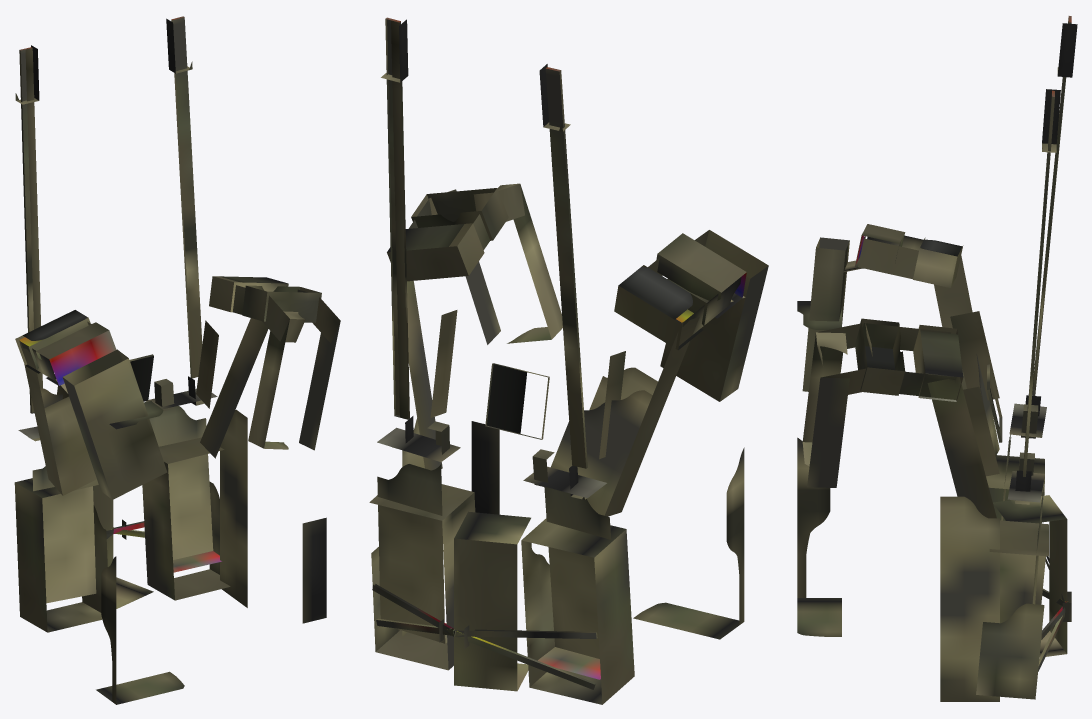
File: atleti.obj
The picture shows the model from 3 angles, left to right: view 1: azimuth 30°, elevation 25°; view 2: azimuth 150°, elevation 25°; view 3: azimuth 270°, elevation 25°; orthographic projection. The views are drawn at different scales.
Parts seen in each view (by area): view 1: atleti; view 2: atleti; view 3: atleti.
Part boxes in pixels (x1=…): atleti: x1=14, y1=16, x2=340, y2=704; atleti: x1=369, y1=17, x2=768, y2=704; atleti: x1=797, y1=16, x2=1077, y2=701.
Bounding box in the file's own units: 0.7121 × 1.39 × 0.5877.
